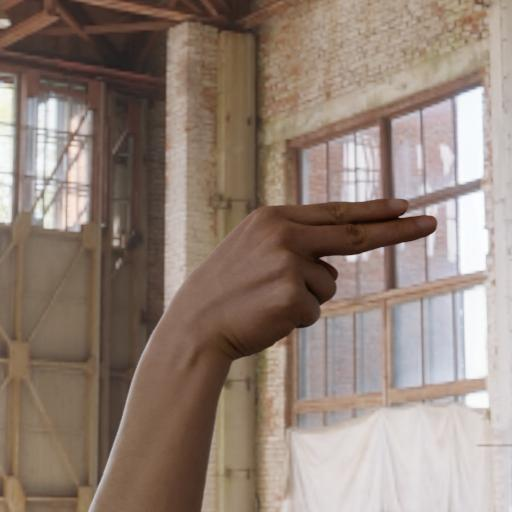H: (139, 186, 451, 377)
